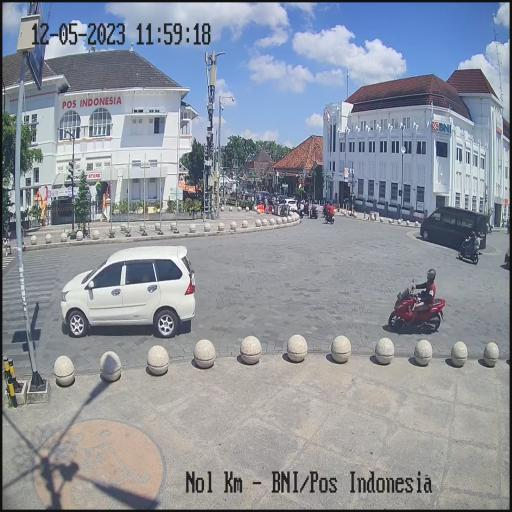mobil: (59, 241, 194, 339), (420, 206, 488, 252)
motor: (388, 280, 446, 334), (458, 234, 480, 266)
